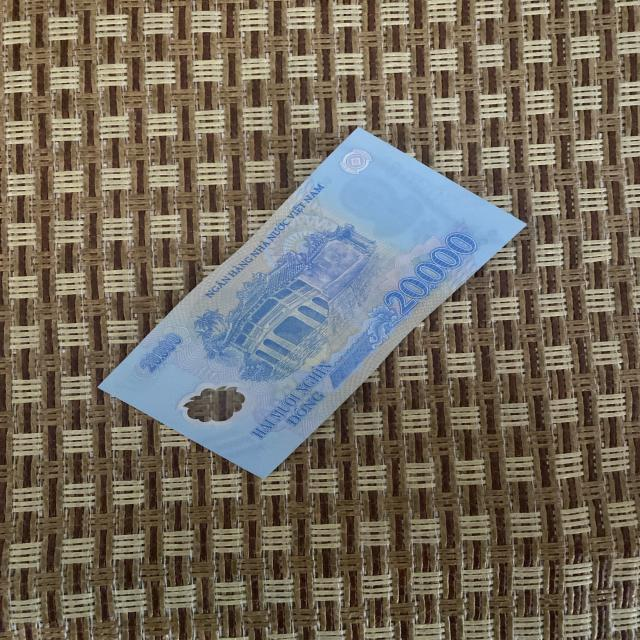20 000 VND: (88, 122, 534, 484)
